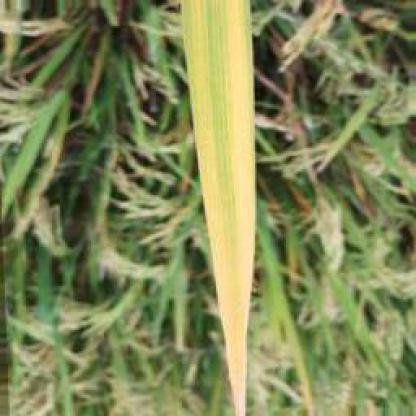Tungro: (179, 5, 260, 416)
